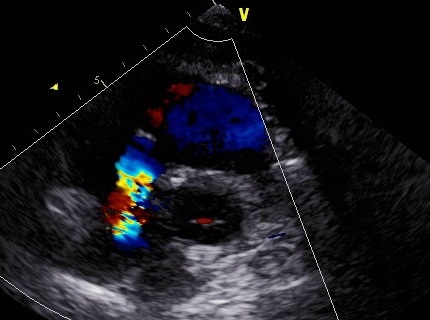TR: (110, 156, 155, 234)
